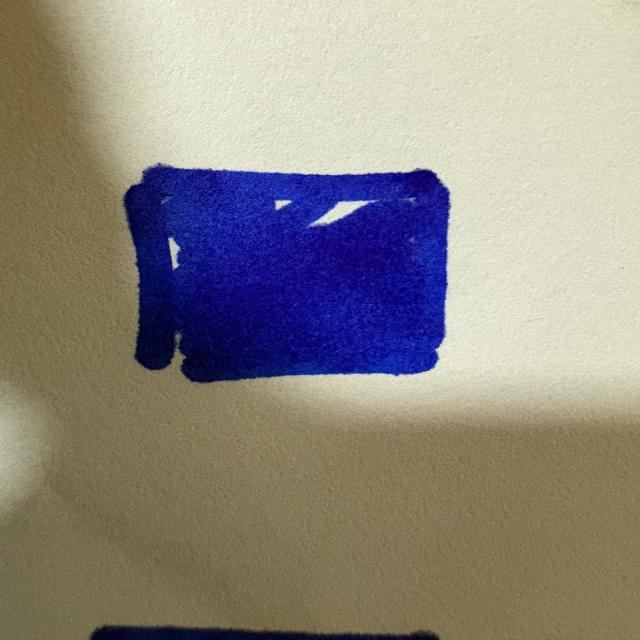Square: (106, 148, 460, 388)
